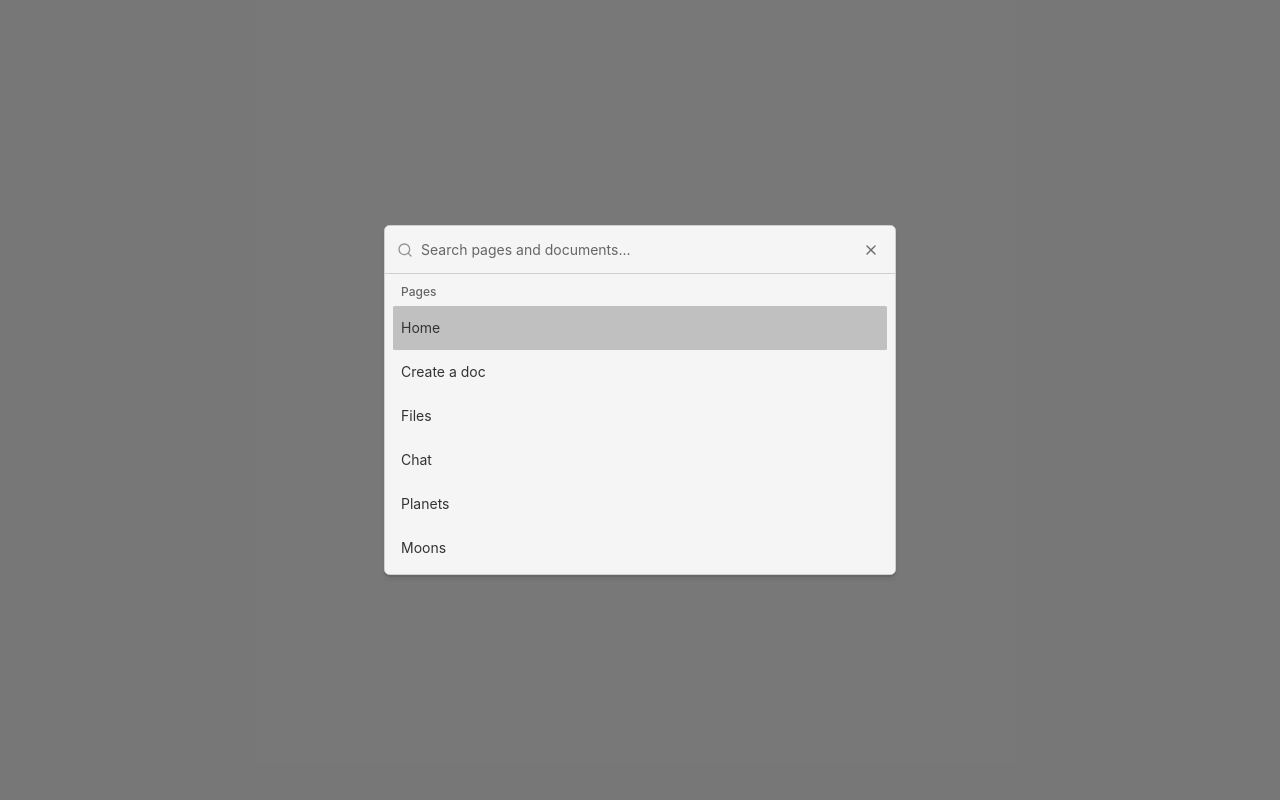
Test: SearchCommand › should filter results based on search input
Type "Test Document 1" into the dropdown with placeholder "Search pages and documents...".
click(652, 250); type("Test Document 1")  # box x1=421 y1=226 x2=883 y2=274
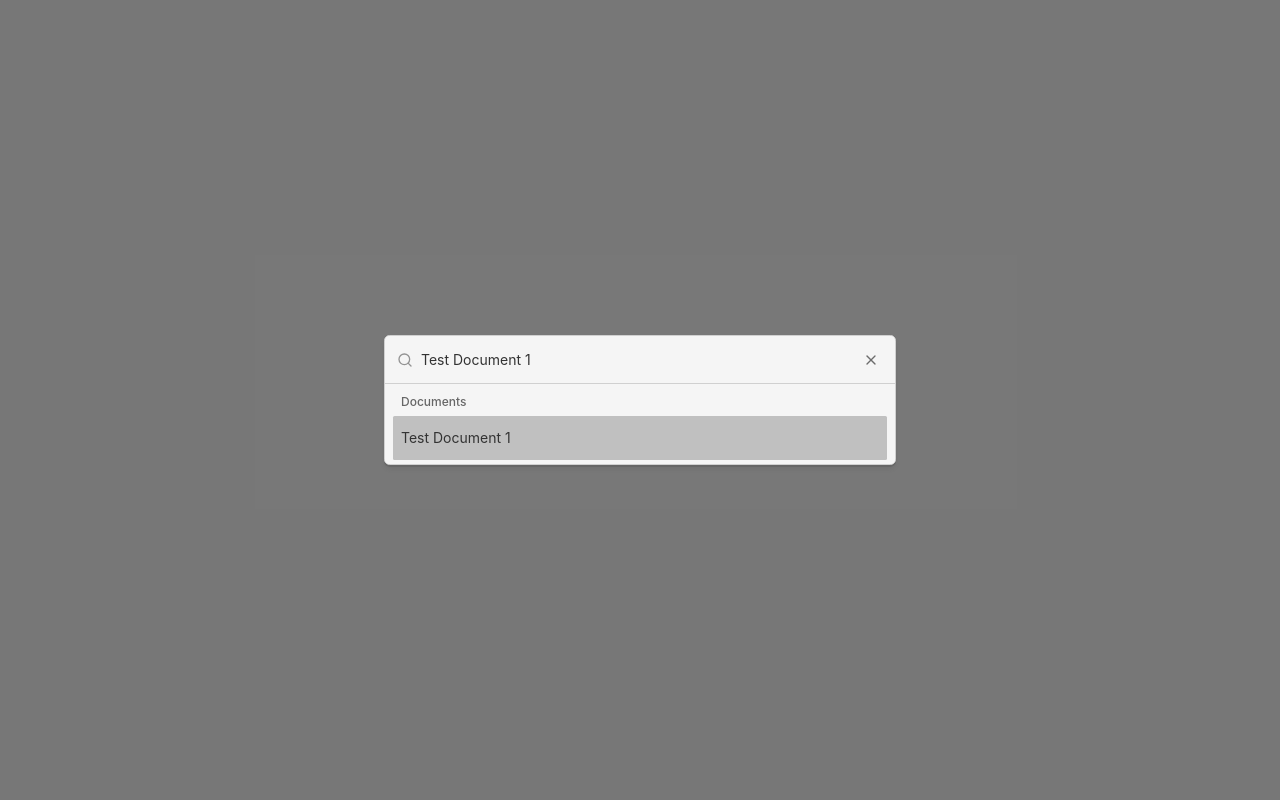
expect the text "Test Document 2" is not shown: met
expect the option "Test Document 1" is shown: met, box x1=393 y1=416 x2=887 y2=460
